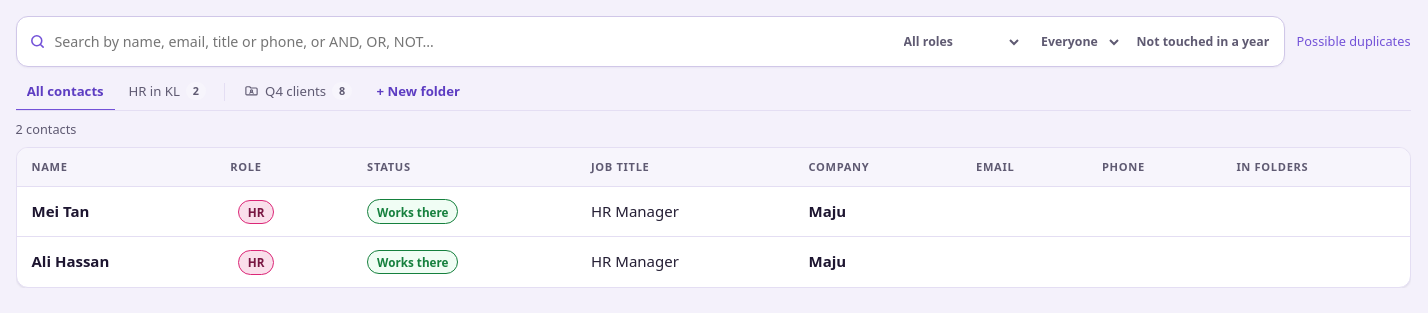
Test case: folders on a list › lists the person's folders and those shared with them, and opens one
Click the button "HR in KL 2". click: (167, 92)
box: [117,73,217,111]
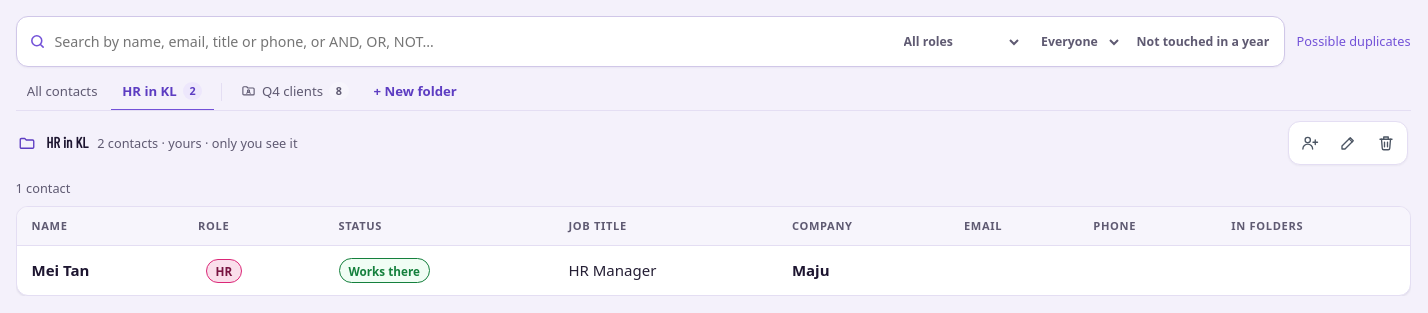
expect the heading "HR in KL" is shown: met, box [46,133,88,151]
expect the text "2 contacts · yours · only you see it" is shown: met, box [97,134,298,154]
